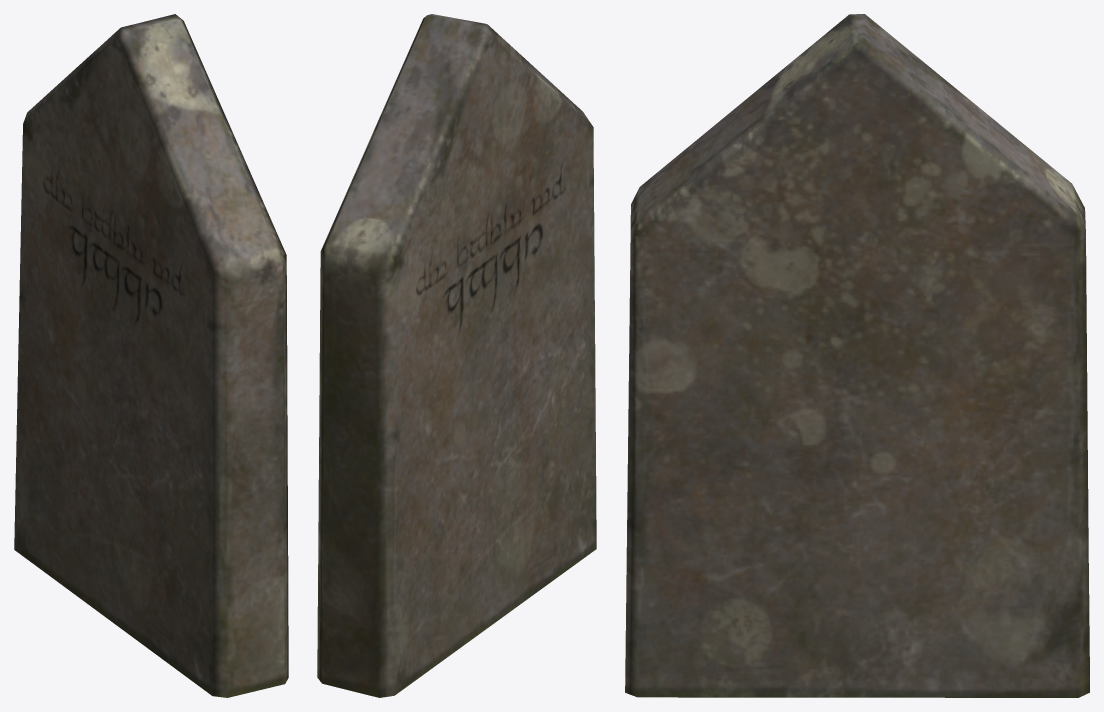
Rendered from SM_TombsC_002.fbx.
The picture shows the model from 3 angles, left to right: view 1: azimuth 30°, elevation 25°; view 2: azimuth 150°, elevation 25°; view 3: azimuth 270°, elevation 25°; orthographic projection. The views are drawn at different scales.
Parts seen in each view (by area): view 1: SM_TombsC_002_LOD0; view 2: SM_TombsC_002_LOD0; view 3: SM_TombsC_002_LOD0.
Part boxes in pixels (<box>): SM_TombsC_002_LOD0: <box>14,14,288,697</box>; SM_TombsC_002_LOD0: <box>317,14,596,697</box>; SM_TombsC_002_LOD0: <box>625,14,1089,697</box>.
Bounding box in the file's own units: 9.98 × 47.1 × 72.63.
1 material, 1 textured.
